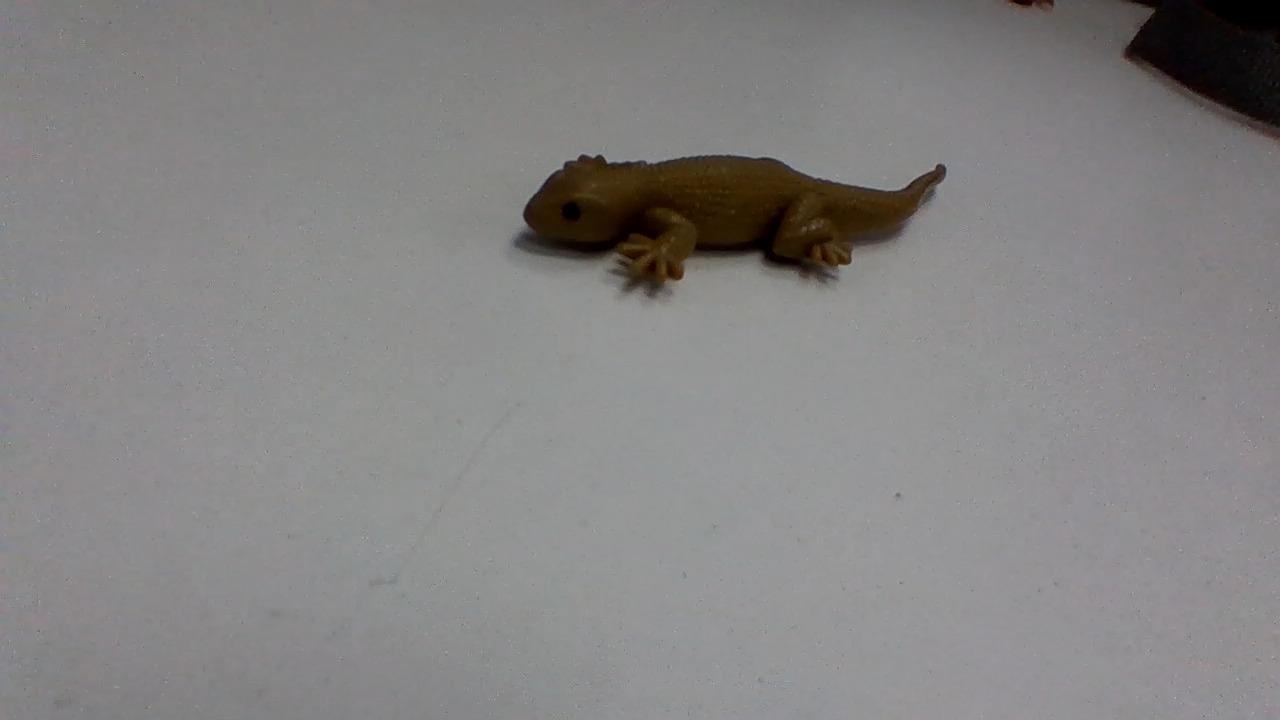lizard: (512, 146, 947, 316)
